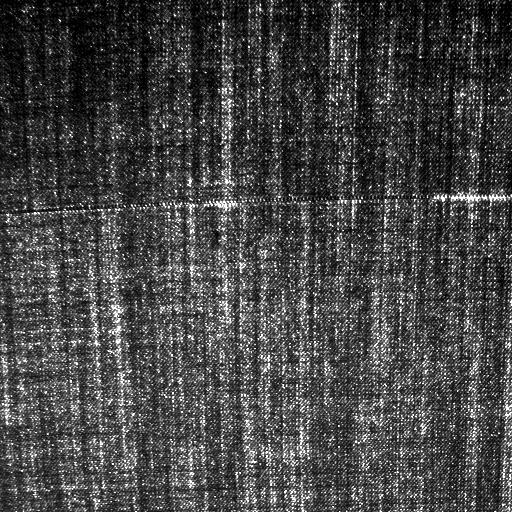fabric_broken_pick: (46, 182, 502, 212)
